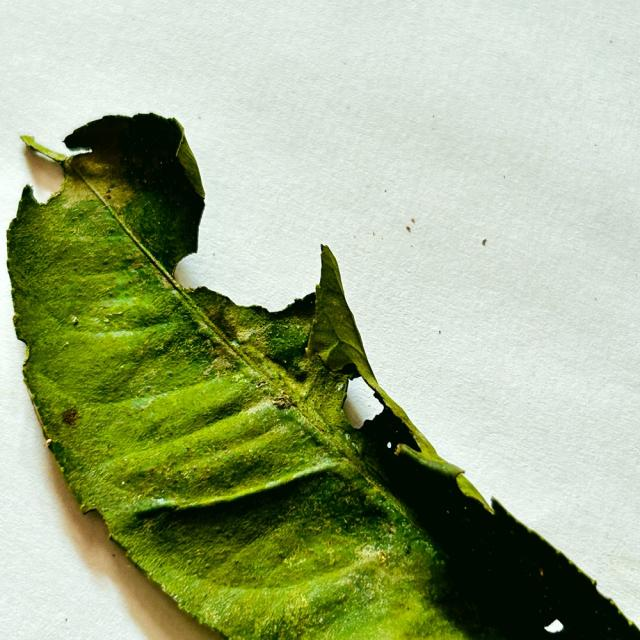Deficiency Leaf: (175, 168, 324, 302), (340, 376, 391, 429), (26, 146, 63, 204), (541, 617, 579, 639)
Lemon: (6, 113, 639, 639)
